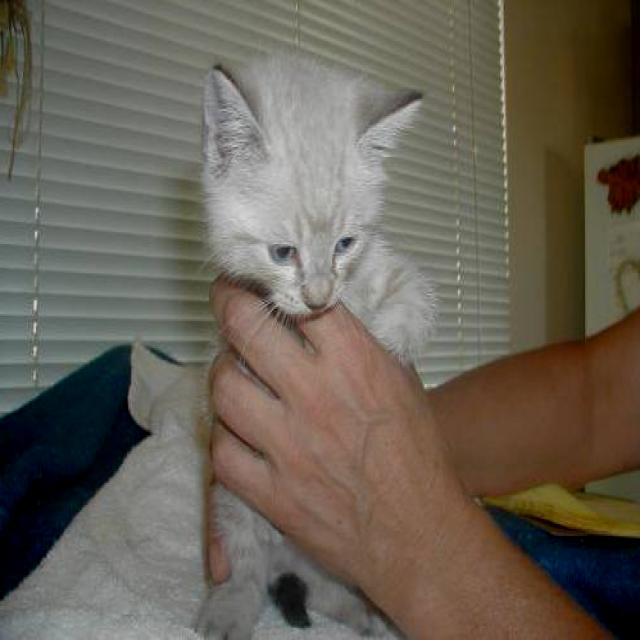Kucing: (152, 29, 450, 630)
